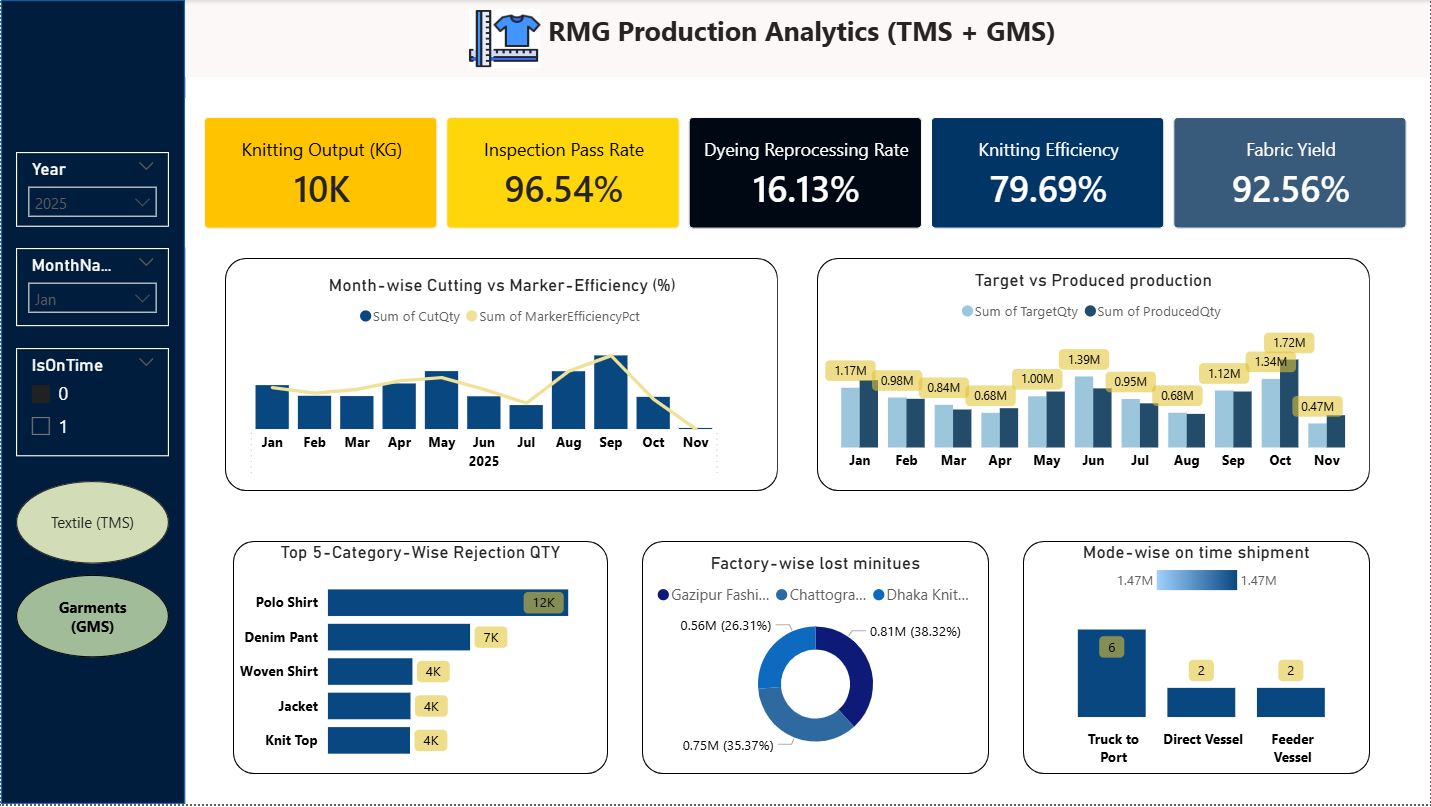

What the dashboard file says about the page in this screenshot:
{"tool":"powerbi","page":{"name":"Garments (GMS)","canvas":[1280,720],"ordinal":1},"visuals":[{"type":"shape","box":[0,0,164.8,720],"z":0},{"type":"shape","box":[164.8,0,1114.9,69],"z":1000},{"type":"cardVisual","fields":{"Data":["_TMS MEASURE_.Knitting Output (KG)","_TMS MEASURE_.Fabric Inspection Pass Rate (%)","_TMS MEASURE_.Dyeing_reprocess_rate(%)","_TMS MEASURE_.Avg_knitting_pct","_TMS MEASURE_.Average_facric_yield(%)"]},"box":[164.8,87.8,1114.9,134.3],"z":2000},{"type":"textbox","box":[164.8,0,1105.1,69],"z":3000},{"type":"shape","box":[200.6,231,495.2,208.7],"z":4000},{"type":"shape","box":[730.7,231,495.2,208.7],"z":5000},{"type":"lineStackedColumnComboChart","title":"Month-wise Cutting vs Marker-Efficiency (%)","fields":{"Y2":["Sum(fact_cutting_daily.MarkerEfficiencyPct)"],"Y":["Sum(fact_cutting_daily.CutQty)"],"Category":["dim_date.Year","dim_date.MonthName"]},"box":[207.8,245.4,481.8,189.9],"z":6000},{"type":"shape","box":[574,484.5,310.7,208.7],"z":6000,"group":"g2"},{"type":"clusteredColumnChart","title":"Target vs Produced production","fields":{"Y":["Sum(fact_production_daily.TargetQty)","Sum(fact_production_daily.ProducedQty)"],"Category":["dim_date.MonthName"]},"box":[730.7,240.9,495.2,189.9],"z":7000},{"type":"shape","box":[207.8,484.5,335.8,208.7],"z":7000,"group":"g1"},{"type":"slicer","fields":{"Values":["dim_date.Year"]},"box":[13.4,136.1,137,67.2],"z":8000},{"type":"shape","box":[915.2,484.5,310.7,208.7],"z":8000,"group":"g3"},{"type":"slicer","fields":{"Values":["dim_date.MonthName"]},"box":[13.4,222.5,137,69.9],"z":9000},{"type":"slicer","fields":{"Values":["fact_shipment.IsOnTime"]},"box":[13.4,311.6,137,96.7],"z":10000},{"type":"pageNavigator","box":[13.4,430.7,137,159.4],"z":11000},{"type":"donutChart","title":"Factory-wise lost minitues","fields":{"Category":["dim_factory.FactoryName"],"Y":["Sum(fact_production_daily.LostTimeMinutes)"]},"box":[574,494.4,310.7,189.9],"z":11000,"group":"g2"},{"type":"group","id":"g1","title":"Group 1","box":[207.8,484.5,335.8,208.7],"z":12000},{"type":"barChart","title":" Top 5-Category-Wise Rejection QTY","fields":{"Y":["Sum(fact_finishing_daily.RejectQty)"],"Category":["dim_style.ProductCategory"]},"box":[207.8,484.5,335.8,208.7],"z":12000,"group":"g1"},{"type":"group","id":"g2","title":"Group 2","box":[574,484.5,310.7,208.7],"z":13000},{"type":"columnChart","title":"Mode-wise on time shipment","fields":{"Category":["fact_shipment.Mode"],"Y":["CountNonNull(fact_shipment.ShipmentID)"]},"box":[915.2,484.5,310.7,208.7],"z":13000,"group":"g3"},{"type":"group","id":"g3","title":"Group 3","box":[915.2,484.5,310.7,208.7],"z":14000},{"type":"actionButton","box":[419.1,8.1,64.5,52.8],"z":15000}]}

Visuals, with their boxes in screenshot pixels (x1, y1, x2, y2), scaled from the page's 1280x720 canvas onto the 1431x807 screenshot:
shape: Rect(0, 0, 184, 806)
shape: Rect(184, 0, 1430, 77)
cardVisual - _TMS MEASURE_.Knitting Output (KG) x _TMS MEASURE_.Fabric Inspection Pass Rate (%): Rect(184, 98, 1430, 249)
textbox: Rect(184, 0, 1420, 77)
shape: Rect(224, 259, 778, 493)
shape: Rect(817, 259, 1371, 493)
"Month-wise Cutting vs Marker-Efficiency (%)" lineStackedColumnComboChart: Rect(232, 275, 771, 488)
shape: Rect(642, 543, 989, 777)
"Target vs Produced production" clusteredColumnChart: Rect(817, 270, 1371, 483)
shape: Rect(232, 543, 608, 777)
slicer - dim_date.Year: Rect(15, 153, 168, 228)
shape: Rect(1023, 543, 1371, 777)
slicer - dim_date.MonthName: Rect(15, 249, 168, 328)
slicer - fact_shipment.IsOnTime: Rect(15, 349, 168, 458)
pageNavigator: Rect(15, 483, 168, 661)
"Factory-wise lost minitues" donutChart: Rect(642, 554, 989, 767)
"Group 1" group: Rect(232, 543, 608, 777)
" Top 5-Category-Wise Rejection QTY" barChart: Rect(232, 543, 608, 777)
"Group 2" group: Rect(642, 543, 989, 777)
"Mode-wise on time shipment" columnChart: Rect(1023, 543, 1371, 777)
"Group 3" group: Rect(1023, 543, 1371, 777)
actionButton: Rect(469, 9, 541, 68)
